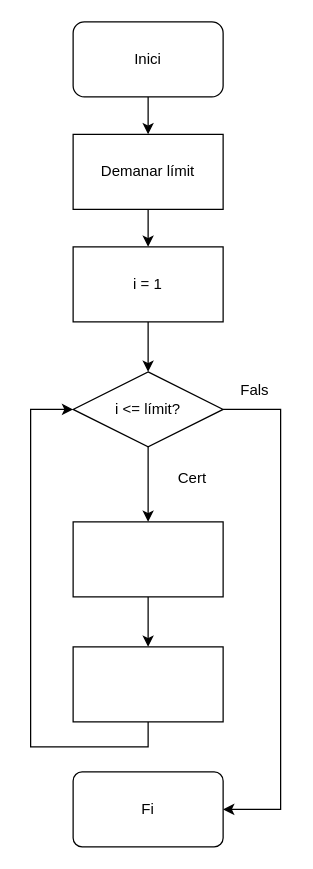
This 313x869 diagram has some shape labels left out. The shapes that lost their labels are listed below. From the top down, each one's centre as x and y in pixels, then its label:
At pixel 147 559: "mostrar i".
At pixel 147 684: "i++".
